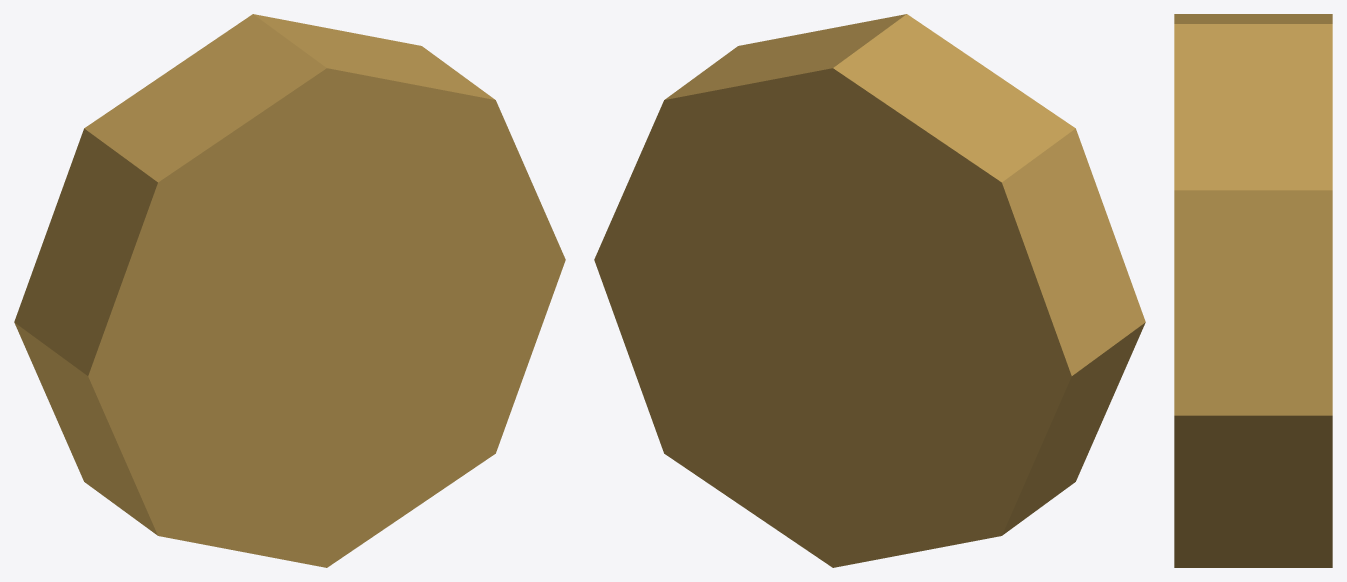
The model's file is LowPolyCoin.fbx.
3 renders of one model, left to right at view 1: azimuth 30°, elevation 25°; view 2: azimuth 150°, elevation 25°; view 3: azimuth 270°, elevation 25°, orthographic. The views are drawn at different scales.
Visible parts, largest first — view 1: pCylinder1; view 2: pCylinder1; view 3: pCylinder1.
Boxes of the visible parts, x1,y1,x2,y2 form: pCylinder1: (14,14,565,567); pCylinder1: (594,14,1145,567); pCylinder1: (1174,14,1332,567).
Size of the model in its own units: 9.03 by 9.03 by 2.42.
